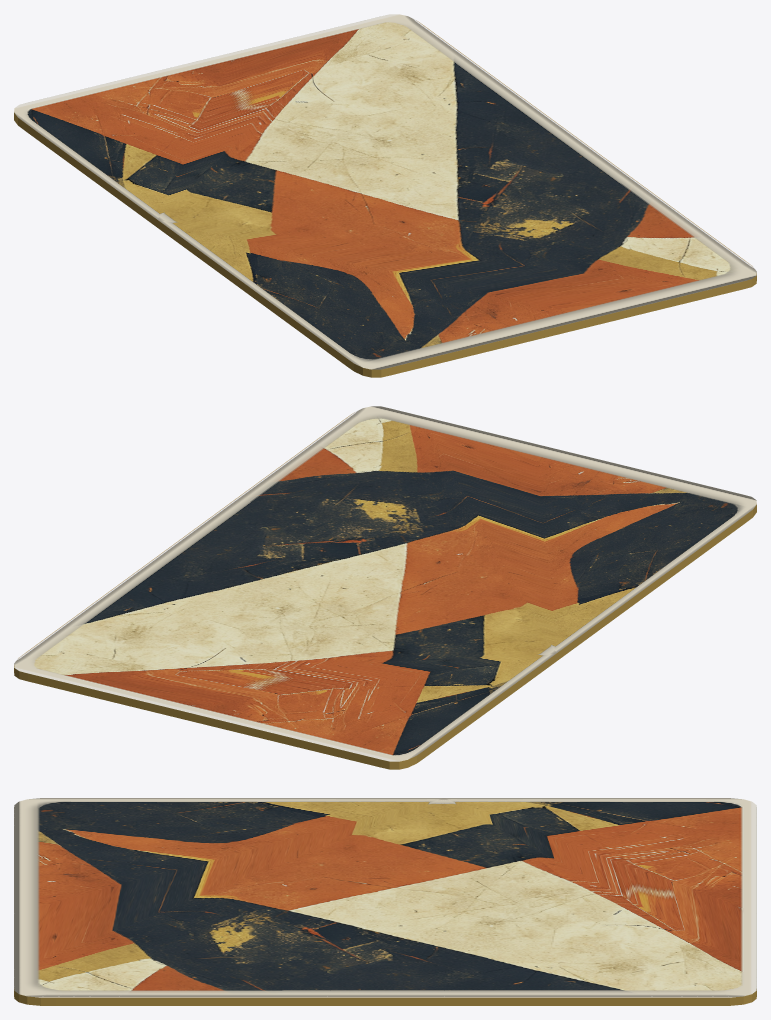
File: DeathCard.fbx
3 renders of one model, top to bottom at view 1: azimuth 30°, elevation 25°; view 2: azimuth 150°, elevation 25°; view 3: azimuth 270°, elevation 25°, orthographic. The views are drawn at different scales.
Visible parts, largest first — view 1: DeathCard; view 2: DeathCard; view 3: DeathCard.
Part boxes in pixels (x1,y1,x2,y2): DeathCard: (14,14,756,377); DeathCard: (14,406,756,769); DeathCard: (14,798,756,1005).
Size of the model in its own units: 317 by 6.06 by 498.
Materials: 1 (1 with a texture image).
